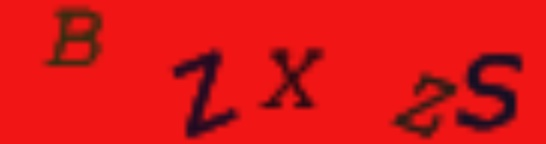B: (47, 5, 106, 70)
S: (455, 48, 529, 134)
X: (258, 42, 330, 113)
Z: (164, 46, 242, 143), (386, 71, 459, 143)
